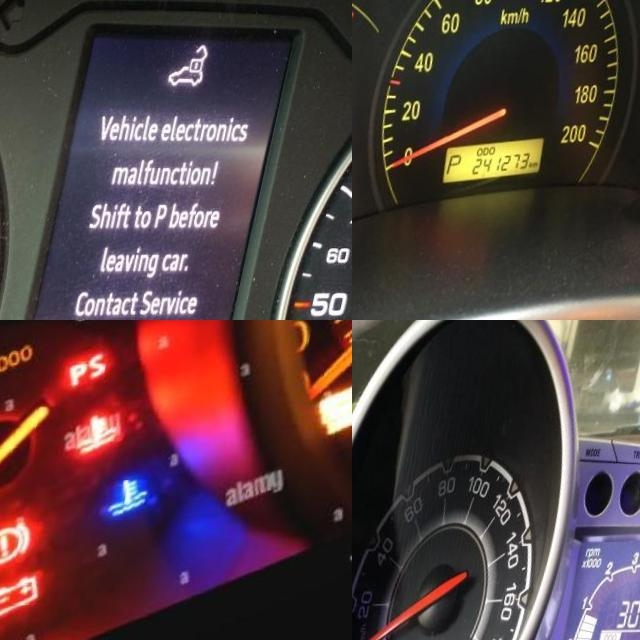Engine cooling system: (115, 476, 173, 528), (81, 413, 139, 461)
